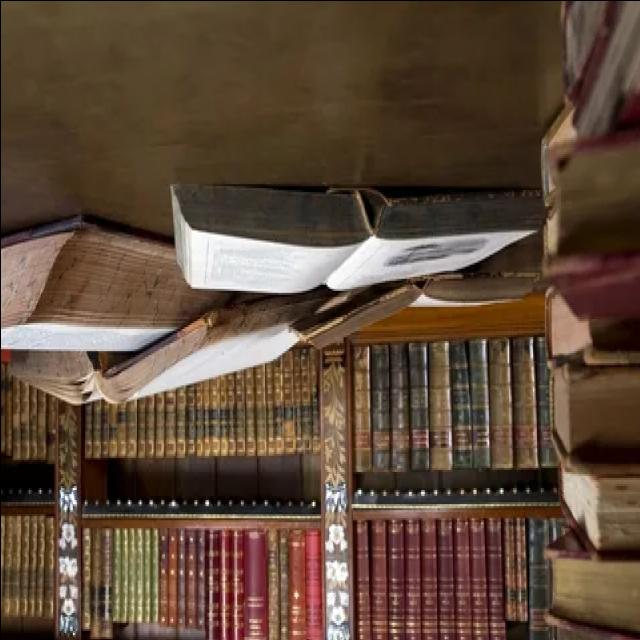book: (154, 158, 556, 313)
